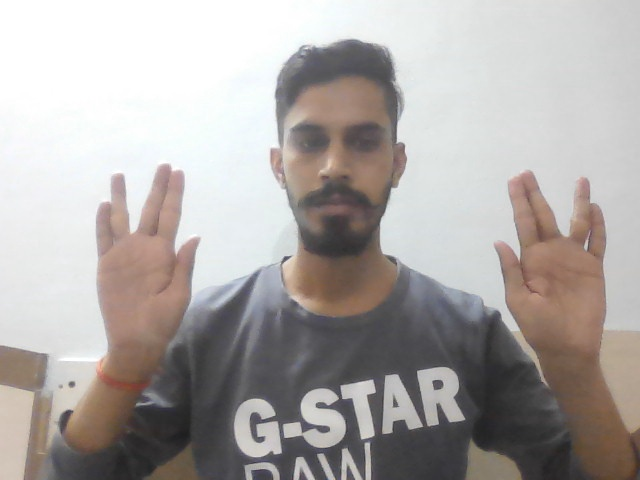LiveLong: (494, 162, 620, 364)
